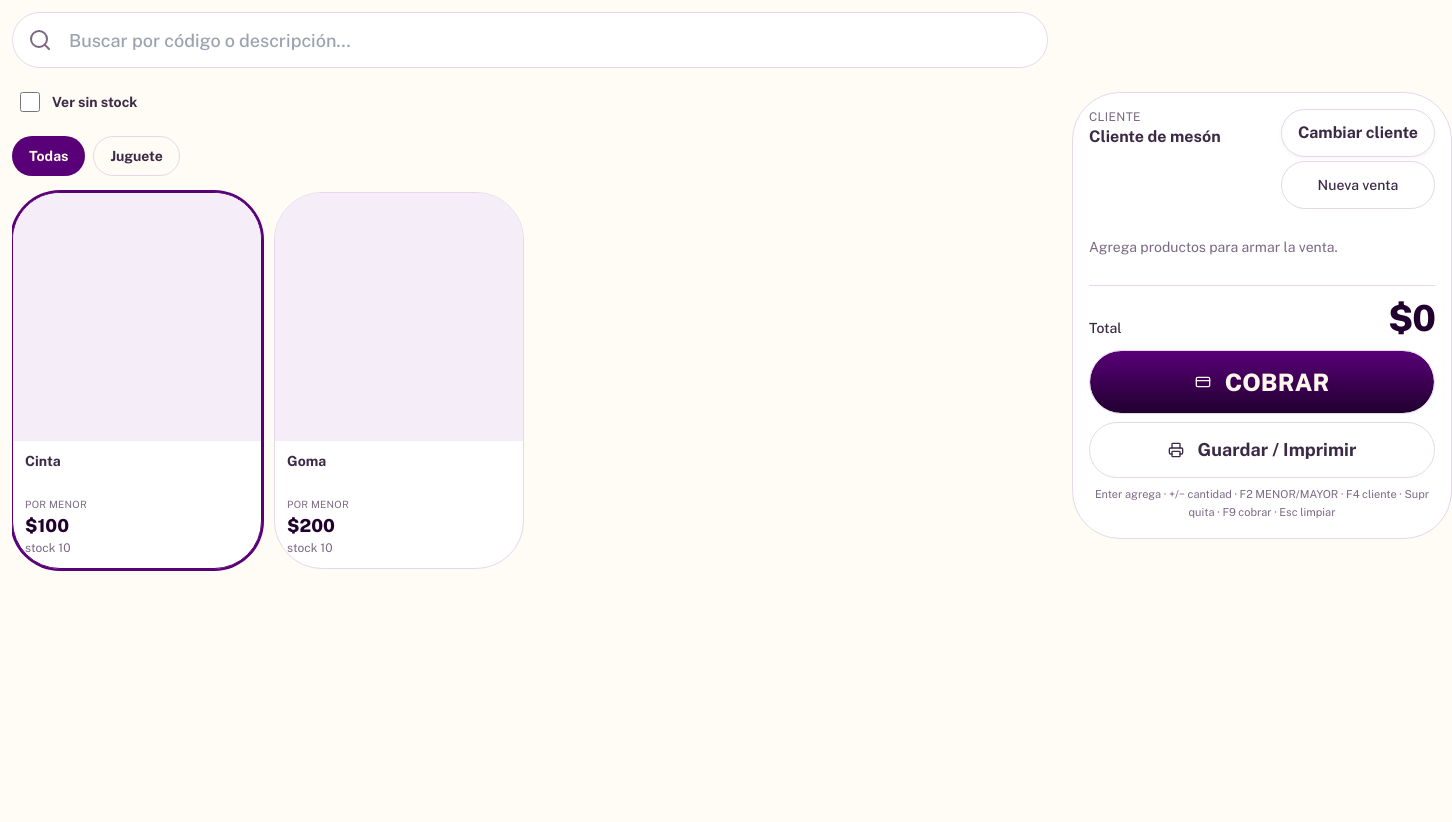
Test: POS pos2 — bugs de QA visual (teclado real) › con texto en la búsqueda, "+" se escribe en vez de ajustar cantidad
expect the button with test id "pos-producto-QA-001" is shown: met, box top-left (12, 192), bottom-right (262, 569)
Type "QA" into the field with placeholder "Buscar por código o descripción…".
click(530, 40); type("QA")  # box top-left (12, 12), bottom-right (1048, 68)
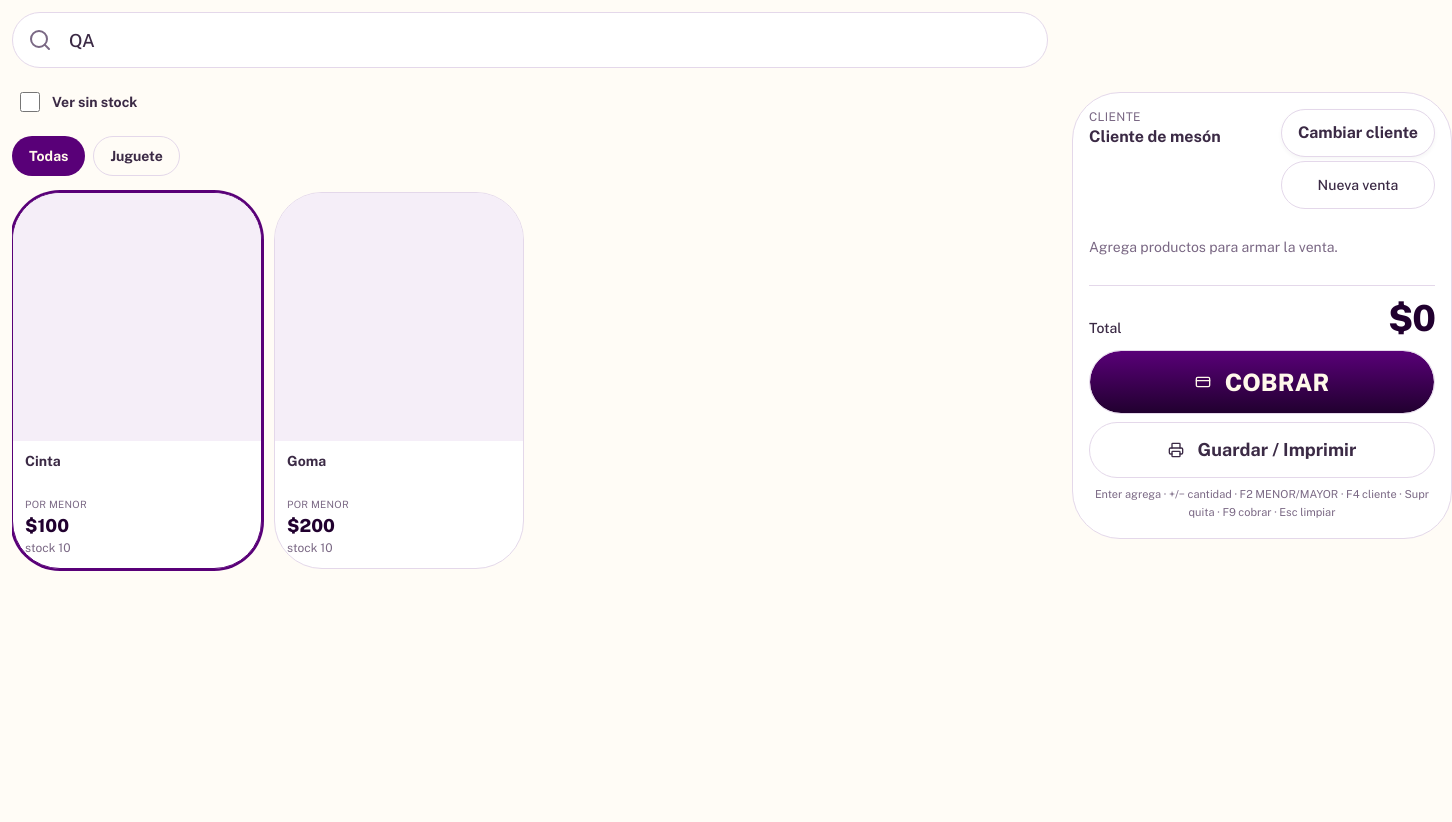
Press +
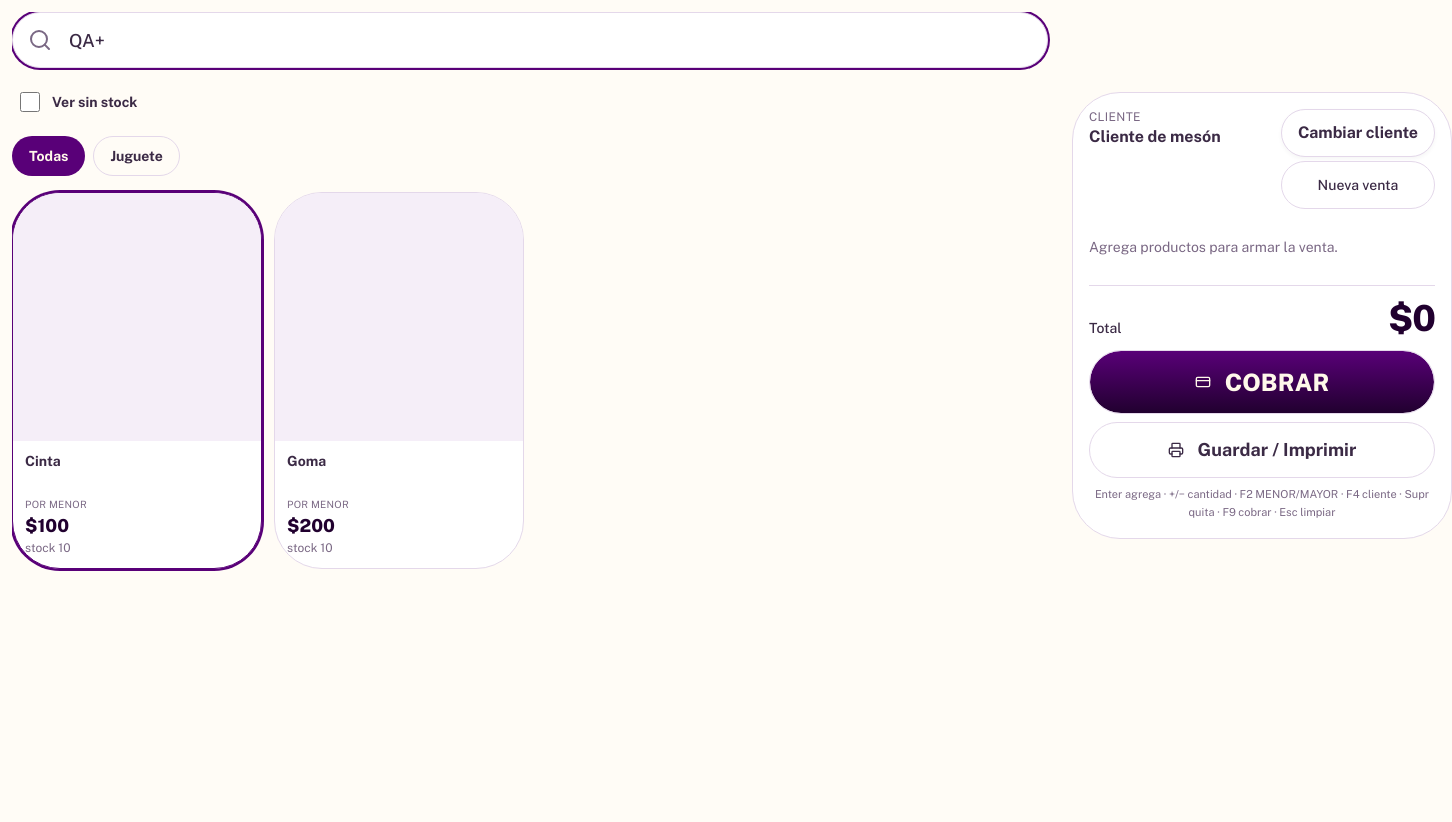
expect the field with placeholder "Buscar por código o descripción…" holds "QA+": met, box top-left (12, 12), bottom-right (1048, 68)
